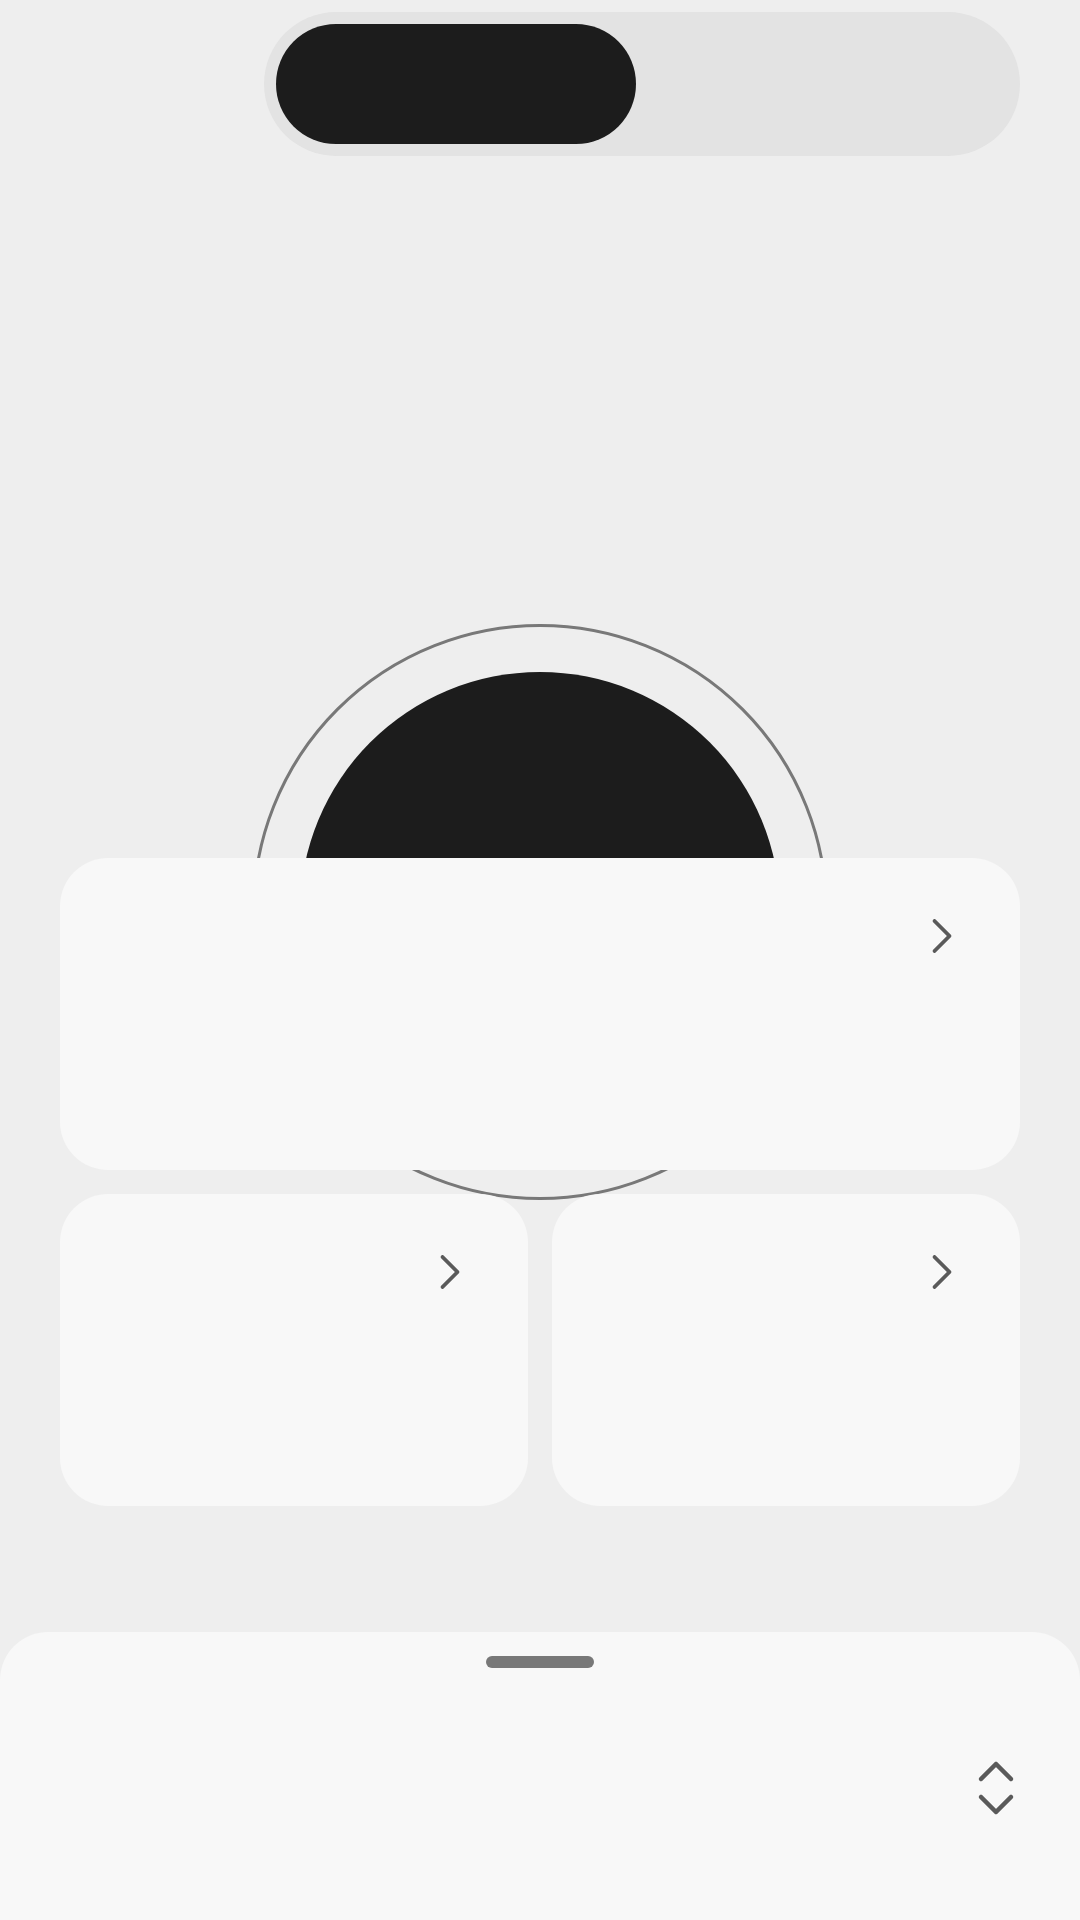

Named icons in this screenshot (1080w x 1920h) and their bounding boxes, (x1, y1, x2, y2):
chevron right: (932, 919, 952, 953), (440, 1255, 460, 1289), (932, 1255, 952, 1289)
